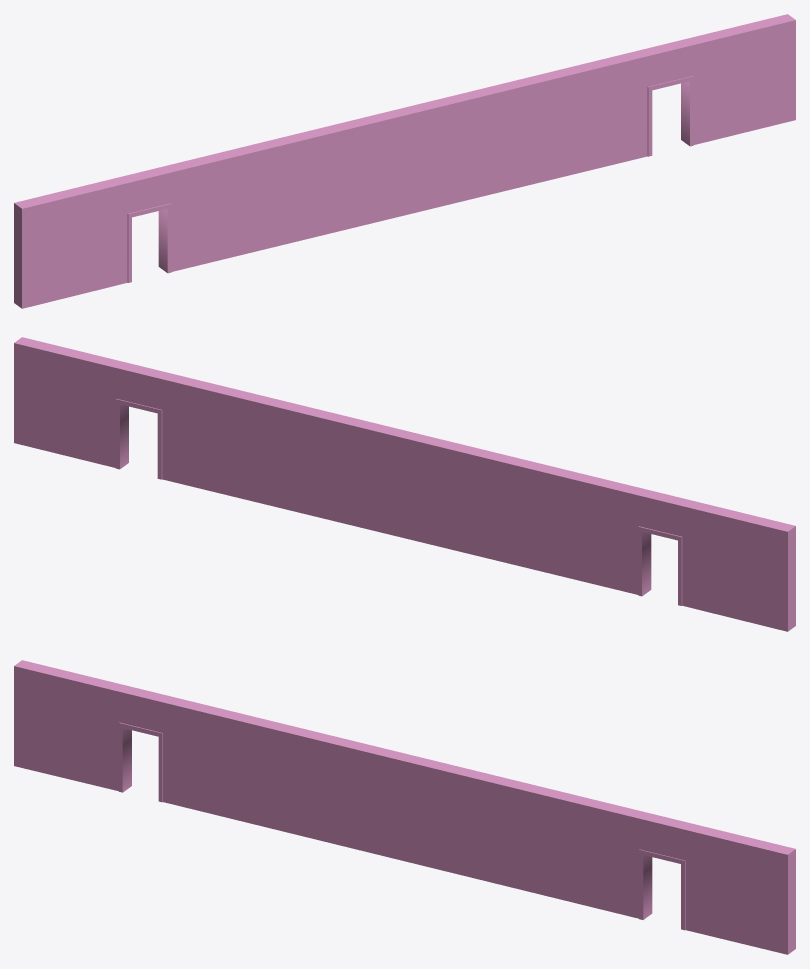
The model's file is DispensaLow.fbx.
The picture shows the model from 3 angles, top to bottom: view 1: azimuth 30°, elevation 25°; view 2: azimuth 150°, elevation 25°; view 3: azimuth 330°, elevation 25°; orthographic projection.
Parts seen in each view (by area): view 1: Parede.011; view 2: Parede.011; view 3: Parede.011.
Boxes of the visible parts, x1,y1,x2,y2 form: Parede.011: (14,14,795,308); Parede.011: (14,337,795,631); Parede.011: (14,660,795,954).
Bounding box in the file's own units: 3569 × 442 × 74.13.
